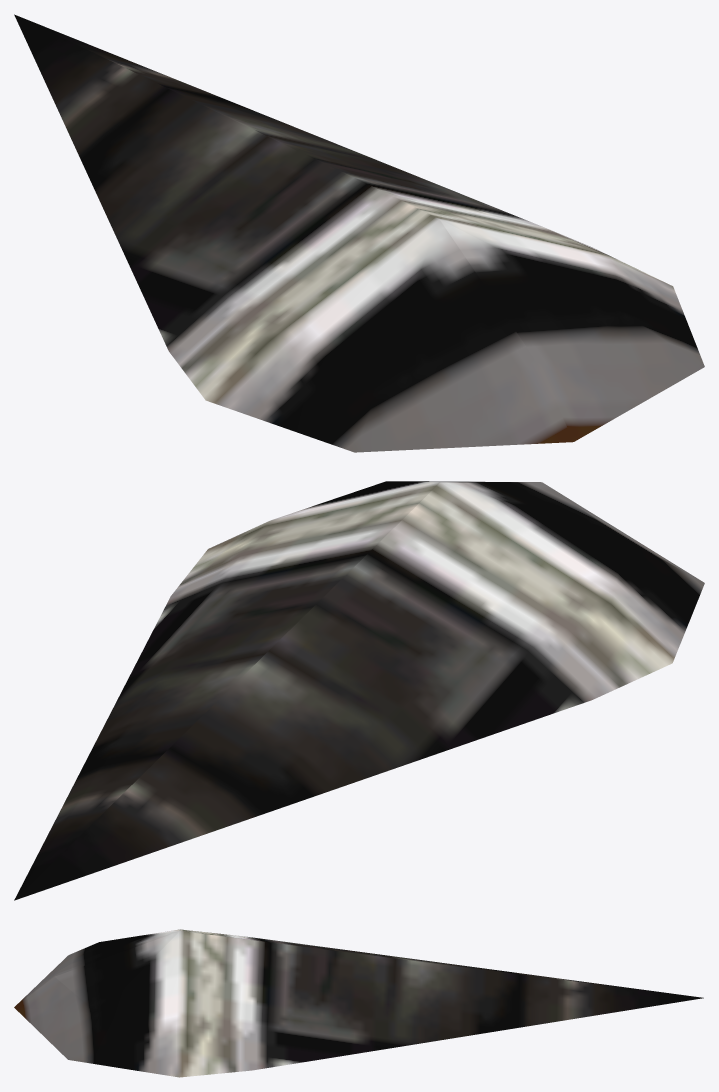
The picture shows the model from 3 angles, top to bottom: view 1: azimuth 30°, elevation 25°; view 2: azimuth 150°, elevation 25°; view 3: azimuth 270°, elevation 25°; orthographic projection. The views are drawn at different scales.
Visible parts, largest first — view 1: e_nb_shield_none; view 2: e_nb_shield_none; view 3: e_nb_shield_none.
Boxes of the visible parts, x1,y1,x2,y2 form: e_nb_shield_none: [14, 14, 704, 452]; e_nb_shield_none: [14, 481, 704, 900]; e_nb_shield_none: [14, 929, 703, 1077].
Size of the model in its own units: 48.59 by 12.4 by 101.
1 material, 1 textured.
